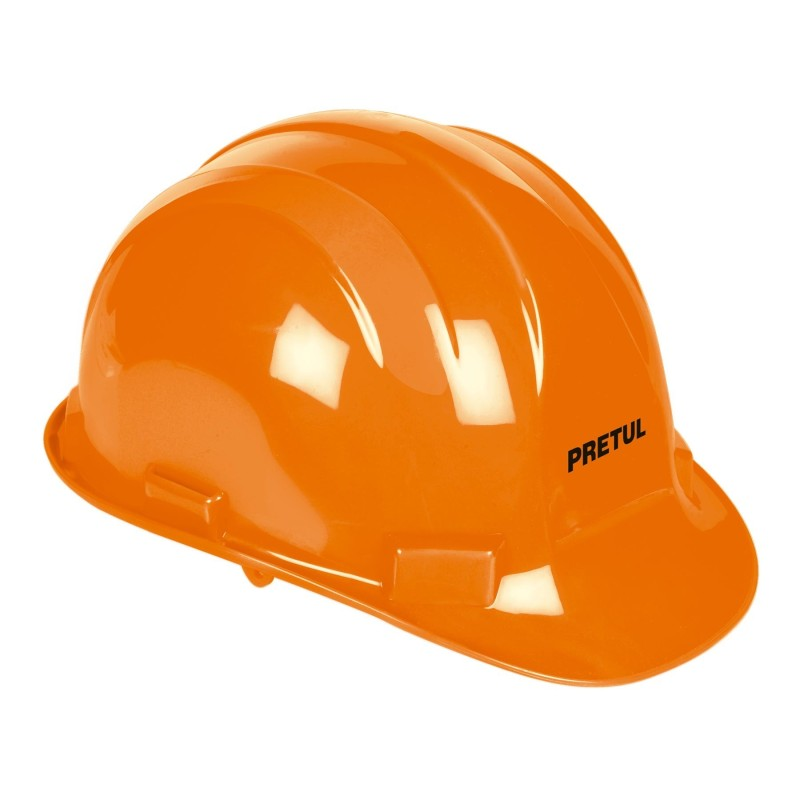Casco de seguridad: (44, 111, 756, 684)
